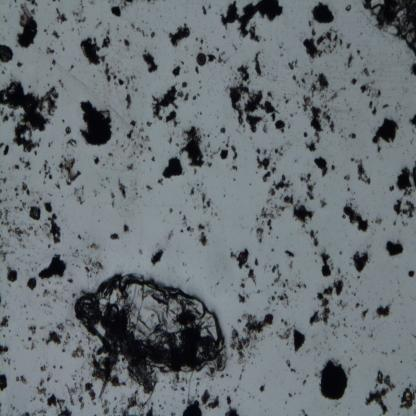Background material: (0, 72, 61, 153), (362, 0, 416, 56), (217, 0, 283, 42), (228, 312, 275, 363), (80, 98, 113, 146), (229, 63, 252, 127), (174, 124, 205, 167), (320, 358, 349, 401), (15, 2, 38, 50), (372, 117, 401, 153), (118, 389, 156, 416), (243, 90, 280, 116), (152, 84, 178, 121), (341, 201, 369, 233), (38, 252, 69, 279), (58, 155, 82, 188), (349, 156, 375, 184), (64, 379, 86, 410), (81, 37, 106, 64), (397, 163, 416, 198), (366, 386, 390, 413), (266, 173, 295, 195), (310, 0, 335, 24), (293, 198, 315, 225), (47, 394, 73, 416), (309, 105, 324, 142), (317, 32, 339, 56), (168, 23, 190, 47), (229, 247, 252, 269), (82, 255, 105, 277), (392, 196, 416, 217), (299, 171, 317, 199), (47, 212, 62, 244), (264, 197, 288, 217), (6, 224, 30, 244), (352, 250, 372, 273), (373, 370, 396, 390), (317, 292, 330, 326), (399, 382, 416, 408), (200, 390, 221, 411), (360, 79, 381, 100), (304, 37, 322, 60), (180, 398, 203, 416), (319, 249, 334, 276), (143, 47, 158, 74), (86, 335, 104, 357), (385, 238, 404, 258), (291, 328, 306, 353), (70, 0, 86, 23), (245, 114, 264, 133), (71, 335, 86, 359), (240, 268, 258, 288), (203, 140, 220, 161), (314, 156, 330, 178), (170, 372, 187, 392), (72, 182, 86, 205), (150, 246, 166, 266), (84, 382, 97, 406), (116, 176, 128, 202), (38, 160, 52, 182), (27, 325, 39, 350), (0, 43, 13, 64), (317, 72, 330, 93), (189, 180, 205, 197), (332, 277, 346, 296), (137, 134, 149, 155), (254, 50, 263, 77), (201, 192, 212, 214), (256, 155, 271, 171), (165, 110, 179, 127), (20, 156, 34, 173), (45, 331, 62, 345), (309, 308, 321, 327), (39, 220, 51, 239), (278, 291, 292, 307), (28, 205, 42, 221), (0, 108, 16, 122), (100, 28, 110, 50), (70, 366, 85, 380), (236, 289, 250, 304), (271, 263, 281, 284), (55, 8, 68, 24), (376, 304, 392, 317), (276, 326, 292, 339), (126, 119, 136, 139), (302, 94, 313, 112), (100, 397, 111, 415), (14, 198, 28, 212), (7, 267, 19, 283), (223, 404, 239, 416), (36, 386, 48, 402), (325, 90, 338, 104), (0, 313, 12, 328), (42, 199, 53, 215), (62, 331, 70, 353), (310, 229, 319, 248), (345, 52, 355, 69), (305, 139, 317, 153), (112, 376, 126, 388), (276, 119, 287, 134), (260, 207, 275, 218), (309, 80, 318, 98), (104, 61, 111, 84), (0, 372, 8, 392), (197, 221, 211, 232), (0, 236, 11, 250), (322, 108, 332, 123), (120, 0, 135, 10), (230, 144, 238, 162), (199, 231, 208, 247), (124, 92, 132, 110), (110, 5, 121, 18), (335, 299, 348, 310), (294, 280, 307, 291), (15, 374, 29, 384), (205, 365, 215, 379), (20, 182, 30, 196), (256, 227, 264, 244), (287, 58, 298, 70), (216, 53, 228, 64), (205, 52, 217, 63), (0, 220, 16, 228), (64, 317, 76, 327), (68, 137, 78, 149), (322, 286, 334, 296), (136, 28, 148, 38), (347, 364, 357, 376), (258, 380, 266, 395), (22, 408, 36, 416), (86, 242, 100, 250), (292, 74, 300, 88), (123, 37, 131, 51), (360, 309, 370, 320), (43, 287, 53, 298), (283, 249, 295, 258), (0, 246, 7, 261), (409, 61, 416, 76), (53, 289, 61, 302), (172, 65, 180, 78), (368, 326, 376, 339), (38, 362, 48, 372), (360, 67, 370, 77), (284, 195, 294, 205), (262, 171, 271, 182), (375, 214, 384, 225), (0, 343, 9, 354), (265, 296, 272, 310), (330, 118, 336, 134), (181, 212, 187, 228), (220, 147, 228, 159), (109, 232, 121, 240), (275, 145, 283, 157), (130, 73, 138, 85), (284, 92, 292, 104), (409, 115, 416, 128), (280, 318, 290, 327), (56, 323, 66, 332), (134, 190, 144, 199), (330, 321, 340, 330), (52, 29, 60, 40), (64, 124, 72, 135), (41, 301, 52, 309), (126, 163, 134, 174), (38, 377, 46, 388), (111, 191, 116, 208), (111, 404, 118, 416), (137, 122, 144, 134), (72, 248, 79, 260), (320, 196, 327, 208), (4, 144, 10, 158), (120, 141, 128, 151), (123, 224, 131, 234), (265, 90, 273, 100), (342, 171, 350, 181), (382, 102, 390, 112), (125, 74, 130, 90), (269, 148, 275, 161), (396, 99, 402, 112), (267, 218, 273, 231), (226, 133, 231, 148), (94, 21, 102, 30), (270, 112, 276, 124), (262, 122, 268, 134), (226, 394, 232, 406), (46, 47, 55, 55), (372, 105, 378, 117), (286, 260, 294, 269), (1, 357, 11, 364), (211, 206, 218, 216), (157, 176, 164, 186), (93, 154, 99, 165), (27, 0, 38, 6), (4, 208, 10, 219), (202, 5, 208, 16), (13, 186, 19, 197), (58, 78, 64, 89), (46, 372, 52, 383), (112, 71, 118, 82), (38, 407, 46, 415), (286, 283, 294, 291), (330, 26, 338, 34), (400, 219, 408, 227), (310, 28, 317, 37), (12, 162, 19, 171), (241, 364, 247, 374), (167, 410, 177, 416), (67, 276, 73, 286), (345, 41, 351, 51), (339, 38, 344, 50), (46, 240, 52, 250), (1, 13, 7, 23), (0, 196, 8, 203), (408, 270, 415, 278), (130, 150, 137, 158), (0, 176, 7, 184), (348, 132, 356, 139), (344, 4, 352, 11), (145, 185, 153, 192), (254, 147, 261, 155), (231, 164, 238, 172), (118, 78, 125, 86), (17, 60, 24, 68), (2, 300, 9, 308), (410, 136, 416, 145), (183, 93, 189, 102), (219, 372, 228, 378), (196, 382, 199, 399), (167, 230, 172, 240), (254, 256, 259, 266), (301, 409, 308, 416), (187, 226, 194, 233), (344, 289, 350, 297), (131, 141, 137, 149), (339, 86, 347, 92), (344, 276, 350, 284), (42, 27, 48, 35), (204, 161, 212, 167), (389, 184, 395, 192), (178, 90, 184, 98), (357, 348, 363, 356), (234, 384, 240, 392), (69, 64, 75, 72), (352, 77, 357, 86), (77, 27, 82, 36), (356, 49, 362, 56), (158, 403, 164, 410), (138, 248, 144, 255), (167, 207, 173, 214), (150, 155, 156, 162), (185, 277, 191, 284), (382, 350, 388, 357), (182, 81, 188, 88), (88, 0, 95, 6), (0, 68, 6, 75), (292, 158, 299, 164), (278, 193, 284, 200), (278, 42, 284, 49), (0, 400, 3, 414), (151, 31, 156, 39), (49, 139, 54, 147), (369, 100, 373, 110), (221, 126, 226, 134), (130, 21, 135, 29), (250, 224, 254, 234), (0, 294, 3, 307), (280, 282, 286, 288), (300, 78, 306, 84), (320, 94, 326, 100), (344, 270, 350, 276), (181, 262, 187, 268), (290, 368, 296, 374), (312, 332, 318, 338), (366, 244, 372, 250), (147, 120, 152, 127), (302, 379, 307, 386), (107, 0, 118, 3), (287, 121, 291, 129), (0, 141, 4, 149), (72, 290, 76, 298), (393, 218, 397, 226), (194, 167, 198, 175), (195, 66, 199, 74), (332, 163, 336, 171), (337, 266, 341, 274), (286, 360, 290, 368), (308, 19, 312, 27), (310, 68, 314, 76), (116, 69, 122, 74), (304, 72, 310, 77), (301, 224, 306, 230), (303, 132, 308, 138), (312, 346, 318, 351), (271, 168, 277, 173), (355, 302, 360, 308), (199, 38, 204, 44), (232, 45, 238, 50), (134, 87, 139, 93), (284, 63, 288, 70), (262, 149, 266, 156), (303, 230, 310, 234), (29, 225, 33, 232), (180, 227, 184, 234), (34, 149, 38, 156), (332, 330, 336, 337), (61, 45, 65, 52), (34, 229, 38, 236), (371, 346, 375, 353), (248, 392, 252, 399), (0, 210, 3, 219), (169, 135, 172, 144), (2, 65, 7, 70), (349, 107, 354, 112), (411, 334, 416, 339), (221, 51, 226, 56), (343, 323, 348, 328), (279, 52, 284, 57), (391, 349, 396, 354), (261, 220, 265, 226), (116, 23, 119, 31), (340, 134, 344, 140), (288, 392, 292, 398), (52, 59, 56, 65), (78, 234, 82, 240), (148, 146, 152, 152), (192, 94, 196, 100), (180, 59, 184, 65), (314, 372, 318, 378), (272, 160, 276, 166), (298, 390, 302, 396), (362, 325, 366, 331), (114, 82, 118, 88), (214, 48, 220, 52), (108, 152, 112, 158), (272, 295, 276, 301), (8, 2, 12, 8), (257, 398, 261, 404), (347, 186, 350, 193), (208, 2, 211, 9), (332, 311, 335, 318), (251, 395, 255, 400), (336, 402, 340, 407), (292, 324, 296, 329), (360, 56, 364, 61), (194, 36, 198, 41), (198, 111, 202, 116), (306, 373, 310, 378), (372, 69, 376, 74), (306, 349, 311, 353), (270, 282, 274, 287), (314, 73, 318, 78), (58, 365, 63, 369), (314, 259, 318, 264), (199, 46, 203, 51), (290, 113, 294, 118), (297, 269, 301, 274), (50, 66, 54, 71), (1, 334, 6, 338), (50, 0, 56, 3), (353, 292, 356, 298), (146, 0, 152, 3), (383, 226, 386, 232), (350, 356, 353, 362), (239, 374, 242, 380), (92, 74, 96, 78), (338, 252, 342, 256), (256, 290, 260, 294), (216, 282, 220, 286), (348, 262, 352, 266), (256, 214, 258, 222), (262, 38, 266, 42), (344, 334, 348, 338), (318, 352, 322, 356), (222, 35, 226, 39), (274, 291, 278, 295), (343, 317, 346, 322), (207, 133, 210, 138), (340, 127, 343, 132), (113, 161, 116, 166), (314, 251, 317, 256), (179, 210, 182, 215), (296, 100, 299, 105), (53, 380, 58, 383), (71, 27, 74, 32), (276, 302, 279, 306), (115, 139, 118, 143), (52, 365, 56, 368), (284, 400, 287, 404), (324, 340, 327, 344), (313, 297, 316, 301), (341, 274, 344, 278), (350, 324, 353, 328), (233, 177, 236, 181), (328, 348, 331, 352), (356, 276, 360, 279), (268, 231, 271, 235), (366, 155, 369, 159), (348, 285, 352, 288), (344, 350, 348, 353), (263, 410, 267, 413), (23, 304, 26, 308), (199, 86, 202, 90), (276, 236, 279, 240), (271, 249, 275, 252), (103, 162, 105, 167), (286, 278, 288, 283), (117, 127, 119, 132), (145, 21, 148, 24), (324, 106, 327, 109), (197, 93, 200, 96), (14, 0, 17, 3), (237, 403, 240, 406), (290, 347, 292, 351), (358, 334, 360, 338), (326, 336, 328, 340), (198, 80, 202, 82), (400, 360, 402, 364), (28, 253, 30, 257), (398, 346, 400, 350), (355, 332, 358, 334), (250, 183, 252, 186), (294, 392, 296, 395), (286, 343, 288, 346), (361, 304, 363, 307), (231, 283, 233, 286), (336, 336, 338, 339), (300, 354, 302, 357), (353, 341, 355, 344), (295, 112, 297, 114), (58, 0, 60, 2), (298, 106, 300, 108), (399, 334, 400, 337), (297, 378, 298, 381), (298, 372, 299, 374), (120, 40, 121, 42)
Diatom: (27, 276, 38, 291), (196, 52, 207, 66)
Fragment: (161, 155, 184, 180)
Insect matter: (69, 262, 230, 379)
Microfibre: (89, 187, 99, 198)
